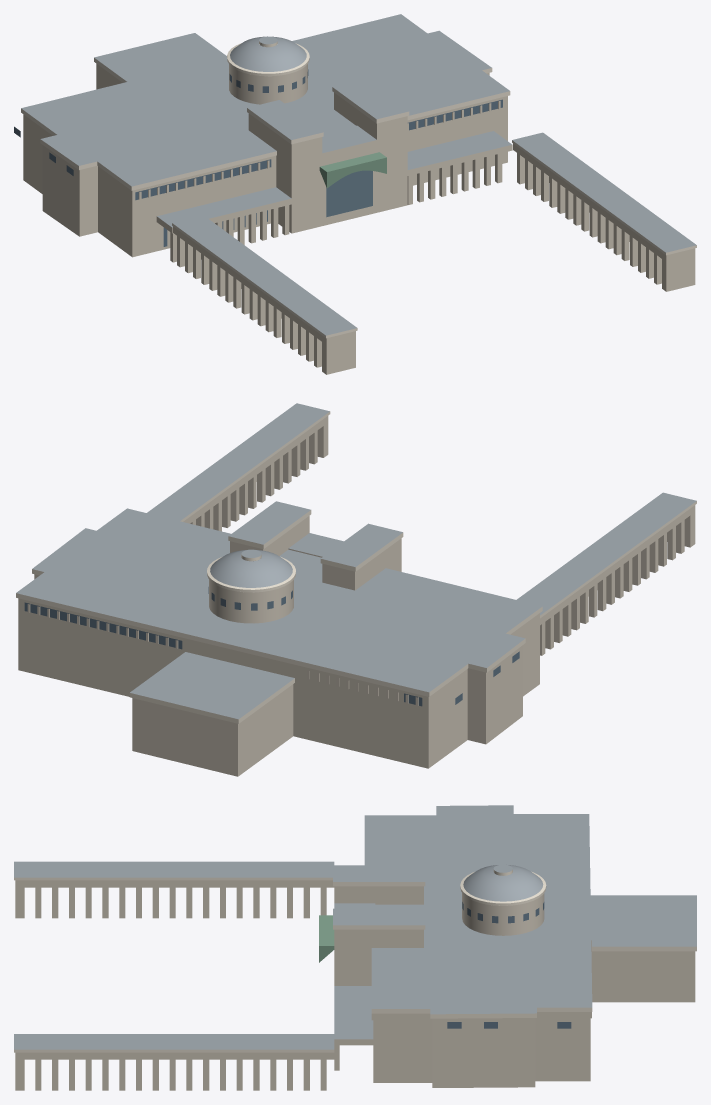
The model's file is seoul-war-memorial.glb.
The picture shows the model from 3 angles, top to bottom: view 1: azimuth 30°, elevation 25°; view 2: azimuth 150°, elevation 25°; view 3: azimuth 270°, elevation 25°; orthographic projection. The views are drawn at different scales.
Parts seen in each view (by area): view 1: War Memorial of Korea; view 2: War Memorial of Korea; view 3: War Memorial of Korea.
Boxes of the visible parts, x1=… form: War Memorial of Korea: x1=14, y1=14, x2=696, y2=374; War Memorial of Korea: x1=16, y1=403, x2=696, y2=776; War Memorial of Korea: x1=14, y1=805, x2=696, y2=1090.
Bounding box in the file's own units: 164 × 45 × 224.
